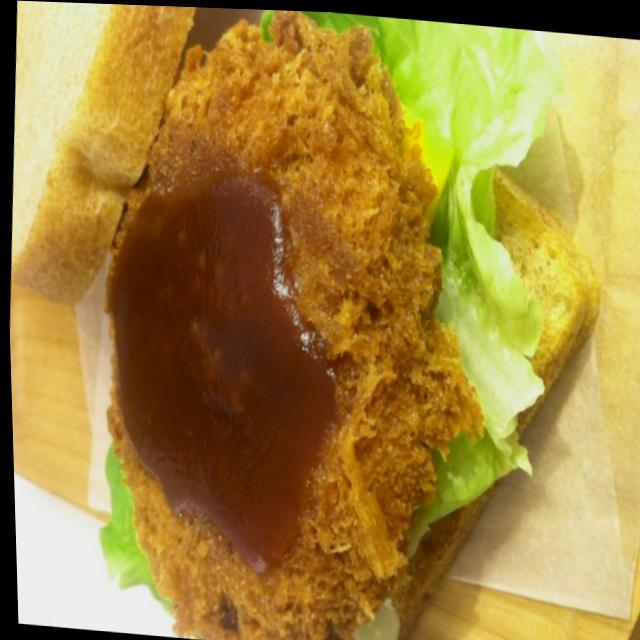炸货点心: (75, 2, 495, 640)
